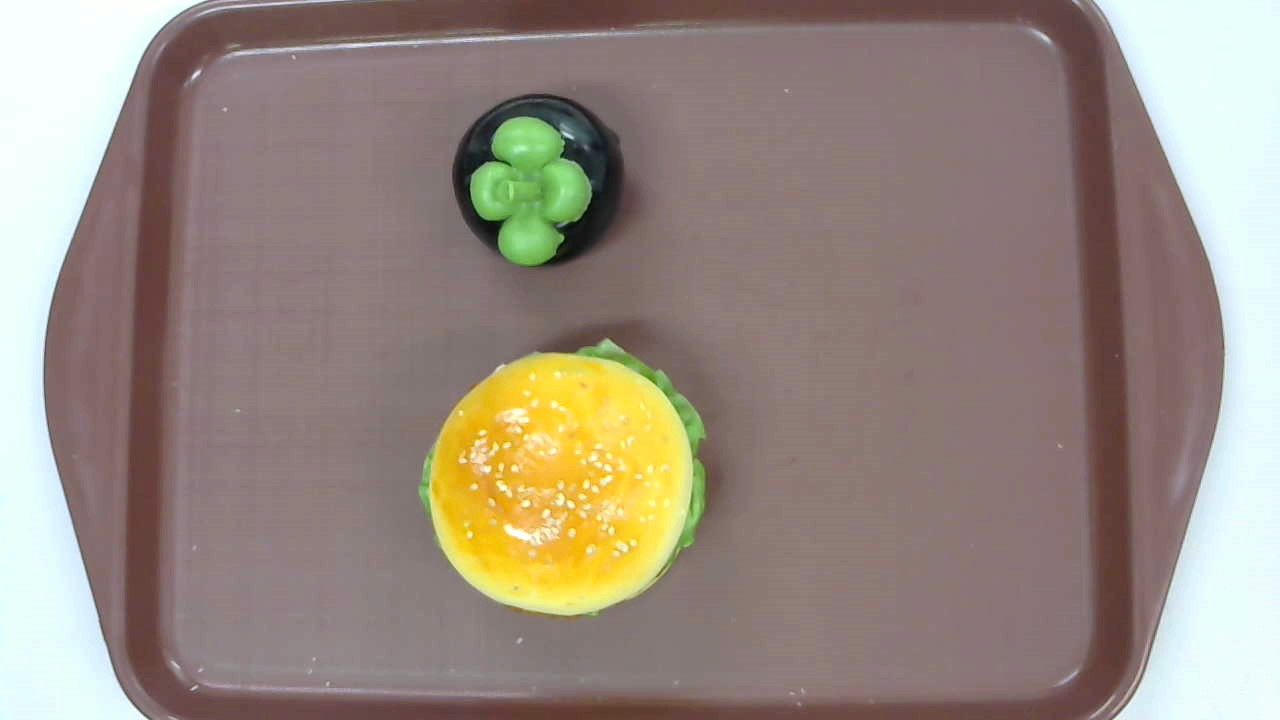hamburger: (415, 338, 708, 616)
mangosteen: (453, 94, 624, 268)
